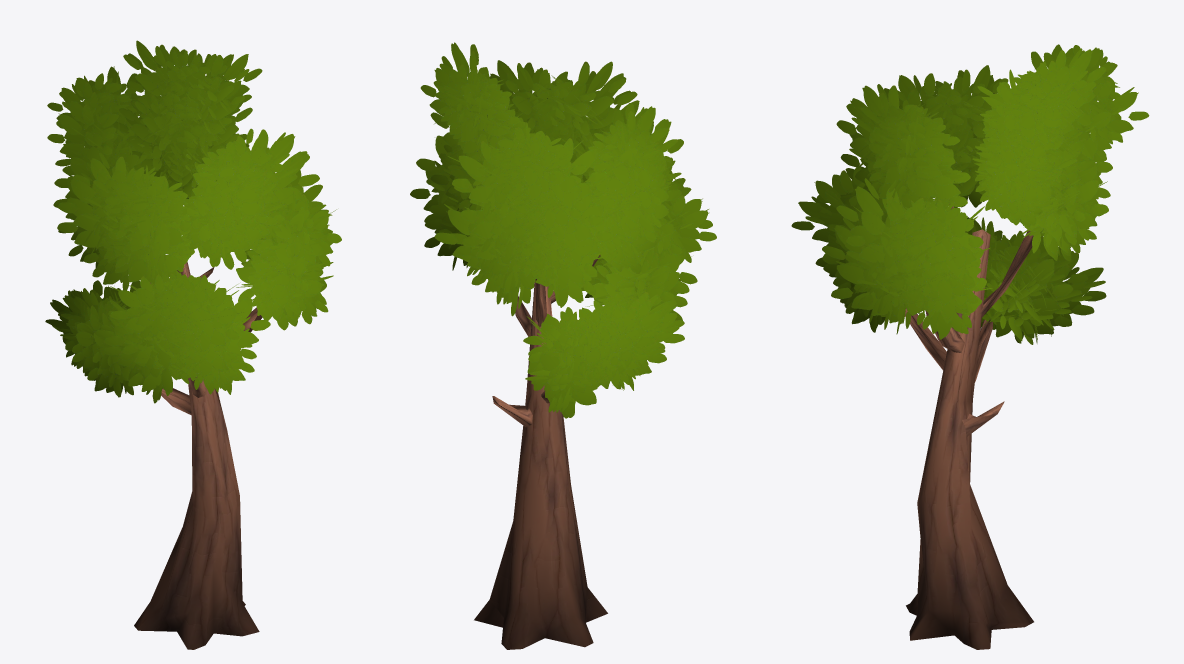
Rendered from tree-other-2-young.glb.
The picture shows the model from 3 angles, left to right: view 1: azimuth 30°, elevation 25°; view 2: azimuth 150°, elevation 25°; view 3: azimuth 270°, elevation 25°; orthographic projection. The views are drawn at different scales.
Parts seen in each view (by area): view 1: CommonTree_5; view 2: CommonTree_5; view 3: CommonTree_5.
Part boxes in pixels (x1,y1,x2,y2): CommonTree_5: [45, 40, 341, 649]; CommonTree_5: [410, 42, 716, 649]; CommonTree_5: [791, 44, 1149, 649].
Bounding box in the file's own units: 1.26 × 2.4 × 1.45.
Materials: 2 (2 with a texture image).
